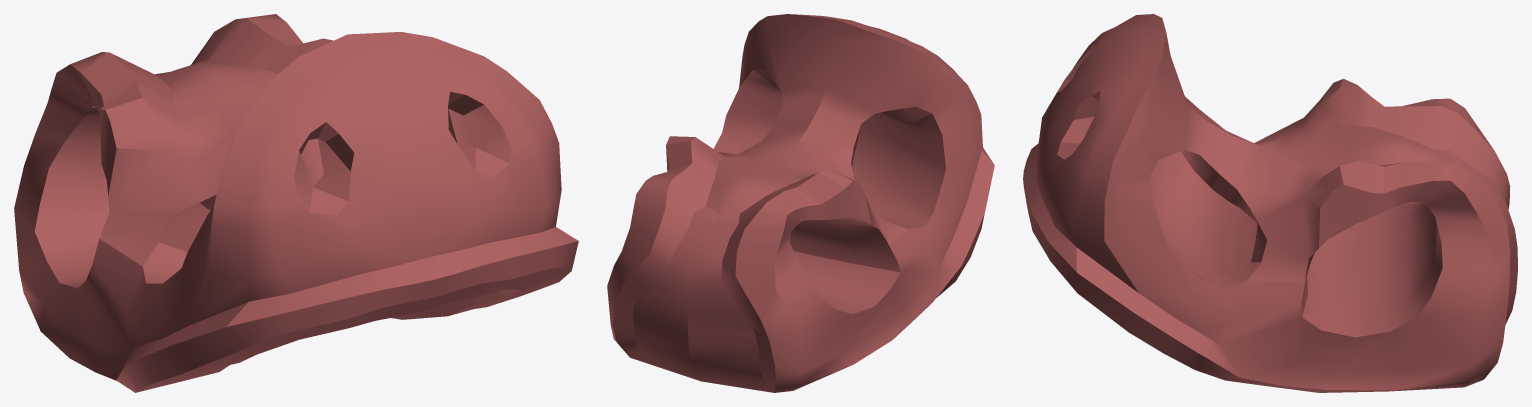
Rendered from SM_Crâne_LP.fbx.
3 views of the same model, side by side, from view 1: azimuth 30°, elevation 25°; view 2: azimuth 150°, elevation 25°; view 3: azimuth 270°, elevation 25° (orthographic). The views are drawn at different scales.
Visible parts, largest first — view 1: SM_Crâne_LP; view 2: SM_Crâne_LP; view 3: SM_Crâne_LP.
Part boxes in pixels (x1,y1,x2,y2): SM_Crâne_LP: (14, 14, 578, 392); SM_Crâne_LP: (607, 14, 994, 392); SM_Crâne_LP: (1023, 14, 1517, 392).
Size of the model in its own units: 806 by 729 by 1046.
